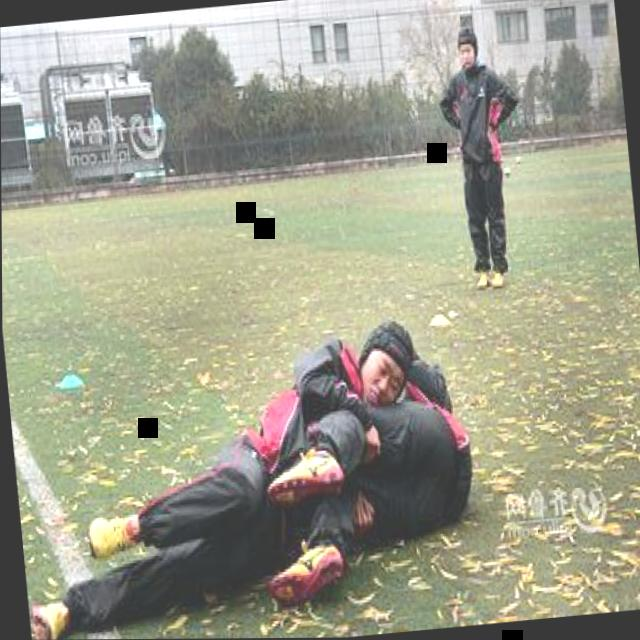Fall-Detected: (11, 291, 468, 640)
